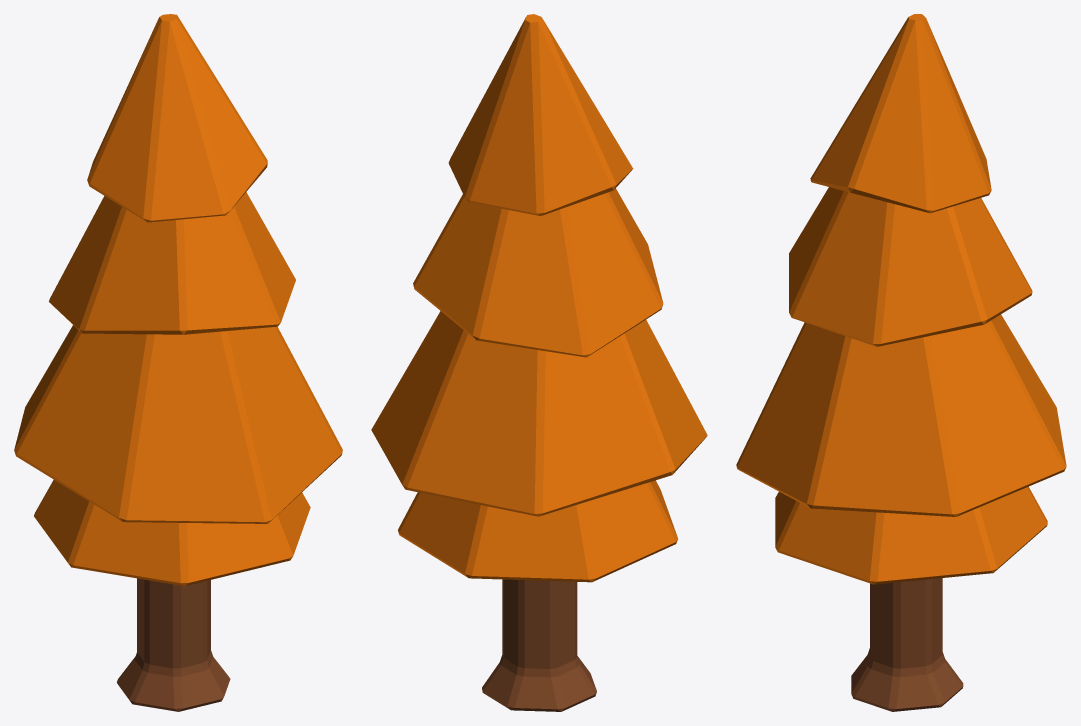
Rendered from autumn_tree.glb.
The picture shows the model from 3 angles, left to right: view 1: azimuth 30°, elevation 25°; view 2: azimuth 150°, elevation 25°; view 3: azimuth 270°, elevation 25°; orthographic projection.
Visible parts, largest first — view 1: tree; view 2: tree; view 3: tree.
Boxes of the visible parts, bbox=[...] form: tree: bbox=[14, 14, 342, 711]; tree: bbox=[371, 14, 707, 711]; tree: bbox=[736, 14, 1066, 711].
Size of the model in its own units: 7.82 by 17.36 by 7.74.
